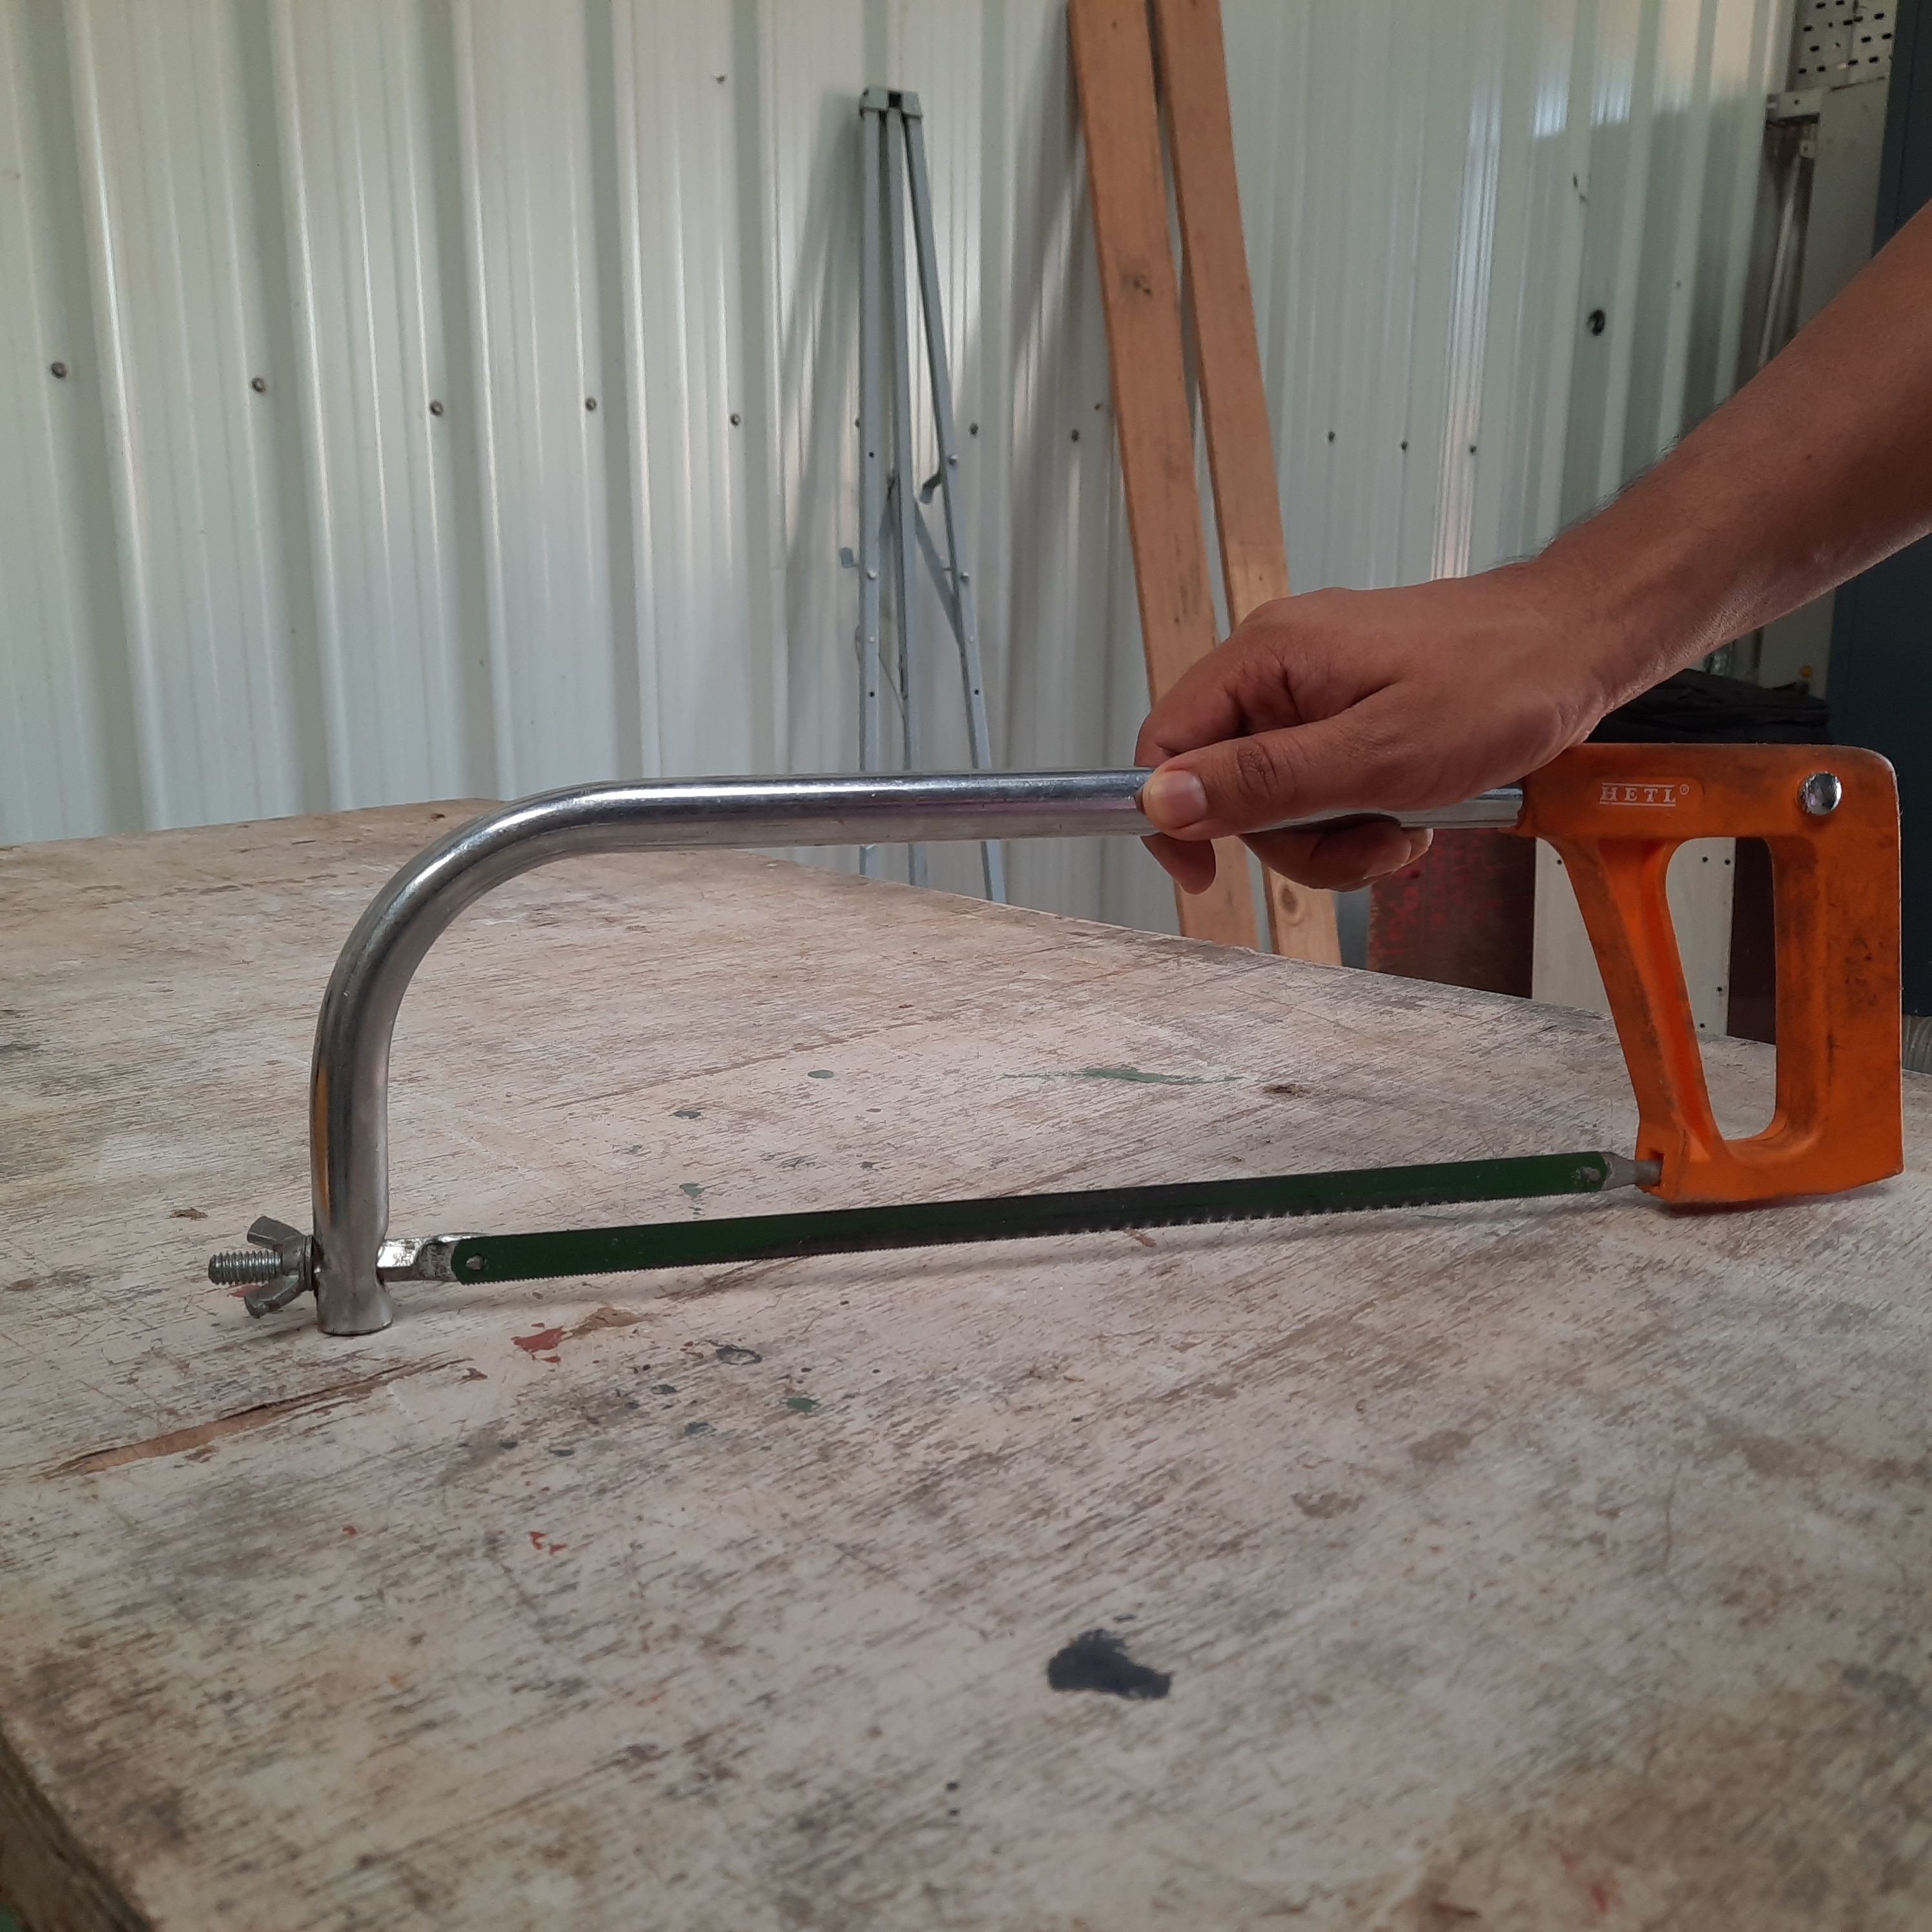Hexaframe: (193, 738, 1914, 1336)
